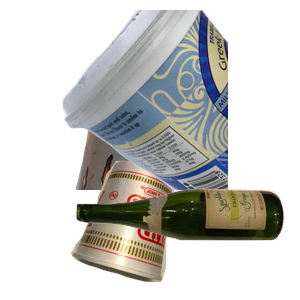glass: (74, 186, 300, 300)
metal: (73, 52, 263, 232)
plastic: (60, 10, 300, 190)
trash: (68, 158, 235, 300)
